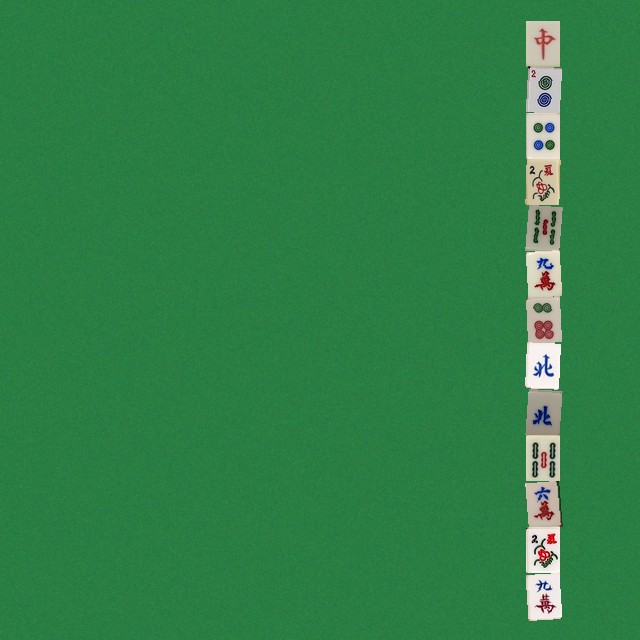tile: (525, 20, 559, 66), (525, 66, 559, 112), (525, 112, 559, 158), (525, 158, 559, 204), (525, 204, 559, 250), (525, 250, 559, 296), (525, 296, 559, 342), (525, 342, 559, 388), (525, 388, 559, 434), (525, 434, 559, 480), (525, 480, 559, 526), (525, 526, 559, 572), (525, 572, 559, 618)
